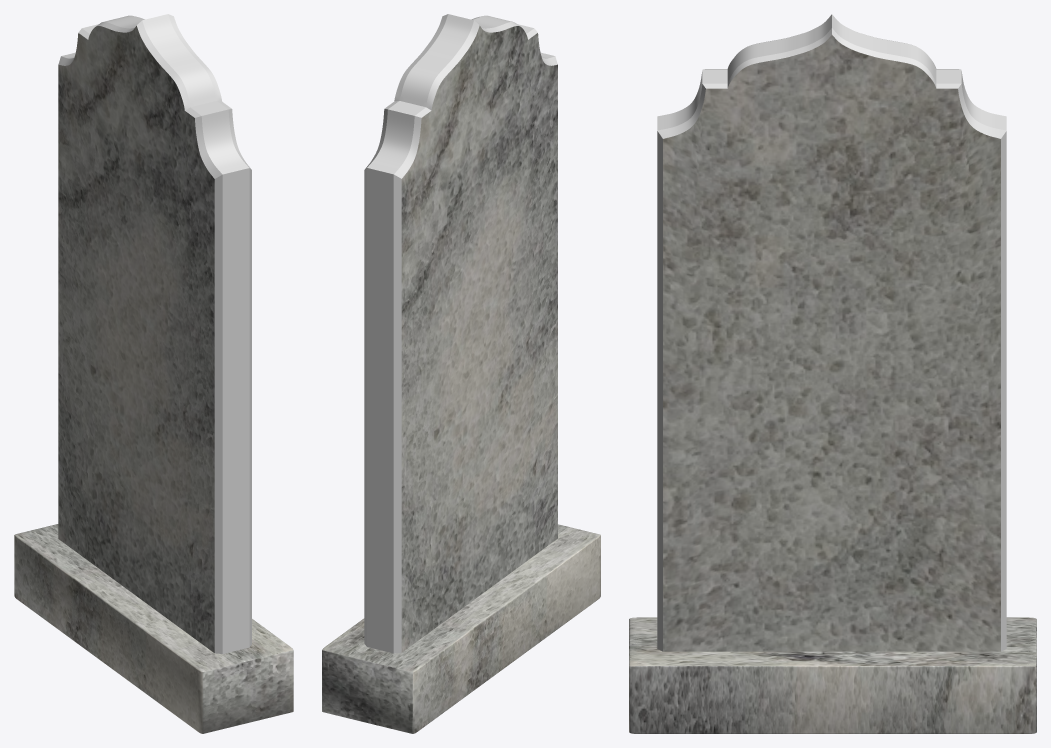
The model's file is Памятник Полевской [marble_u_u] (120).glb.
The picture shows the model from 3 angles, left to right: view 1: azimuth 30°, elevation 25°; view 2: azimuth 150°, elevation 25°; view 3: azimuth 270°, elevation 25°; orthographic projection. The views are drawn at different scales.
Parts seen in each view (by area): view 1: Куб.144; view 2: Куб.144; view 3: Куб.144.
Boxes of the visible parts, box(x1,y1,x2,y2) form: Куб.144: box(14, 14, 293, 733); Куб.144: box(322, 14, 600, 733); Куб.144: box(629, 14, 1036, 733).
Size of the model in its own units: 0.2 by 1.31 by 0.7.
2 materials, 1 textured.
